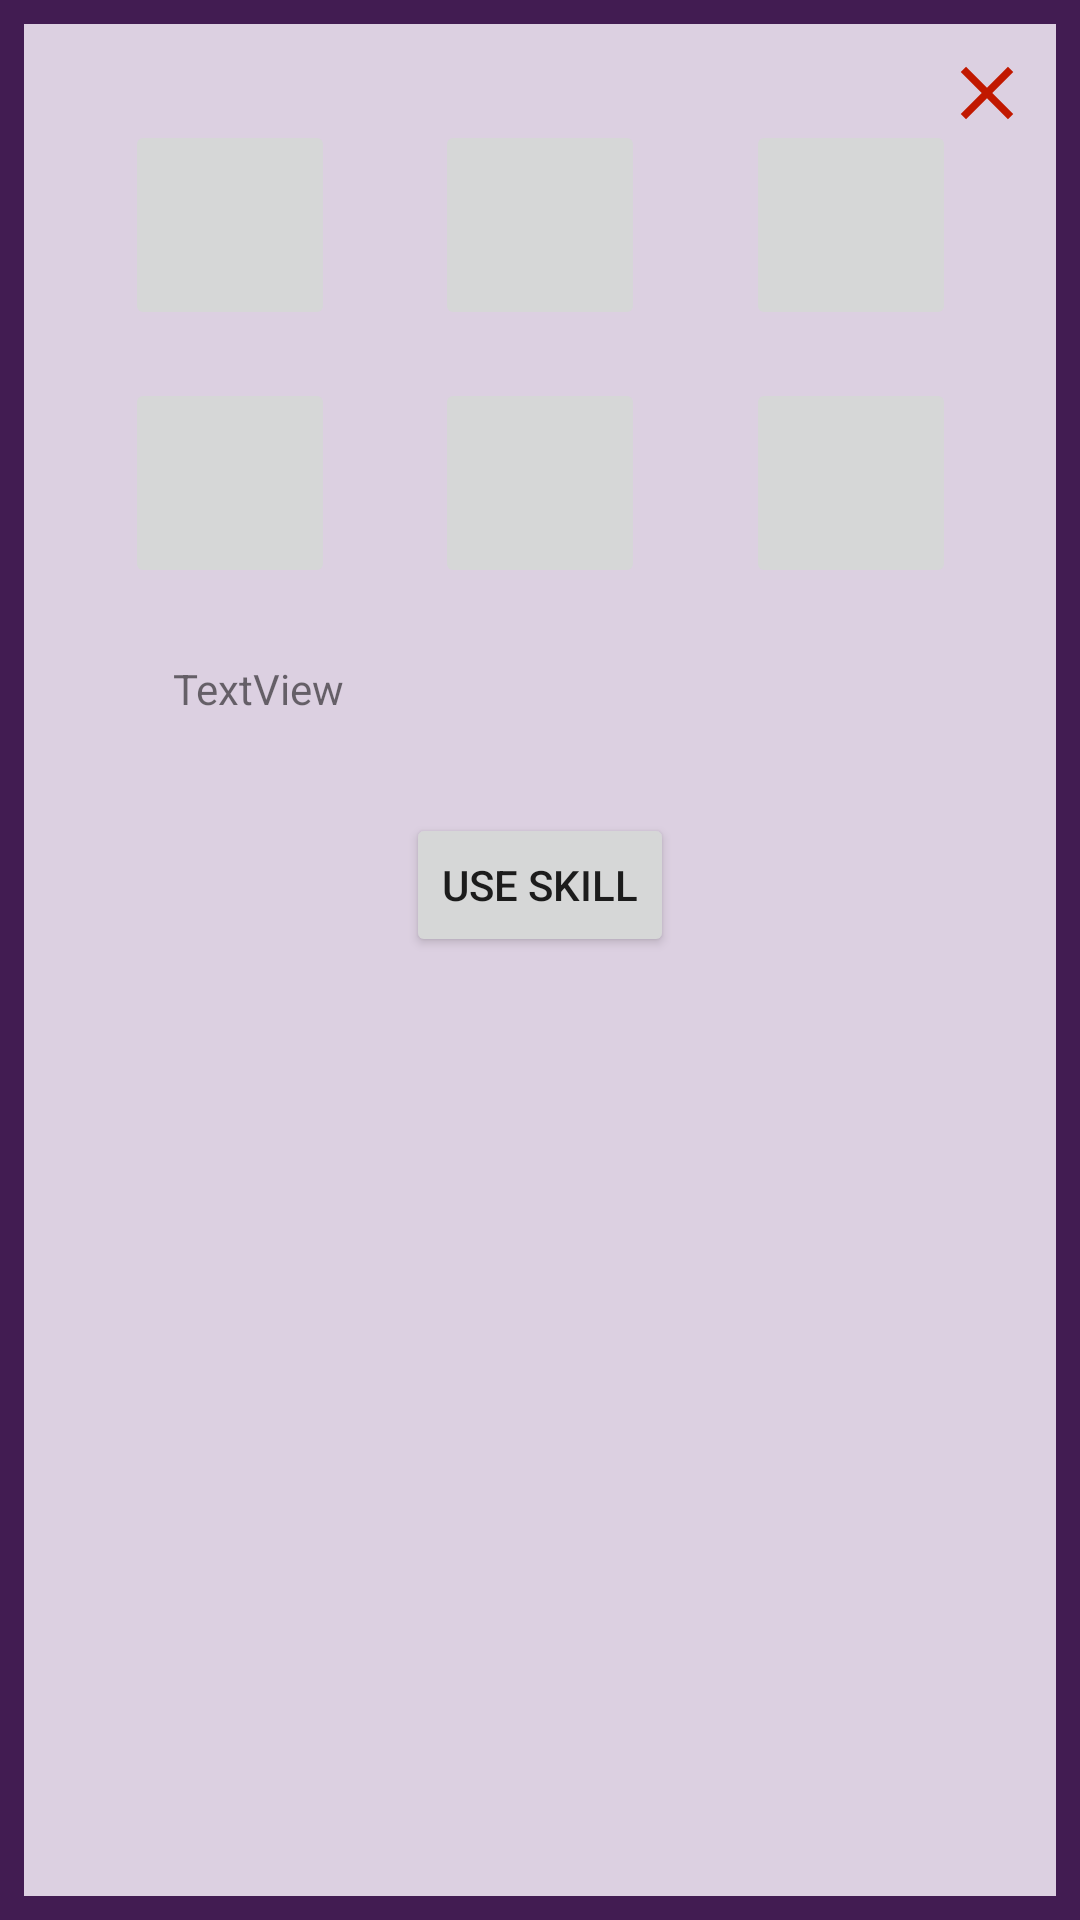

Screen size 1080w x 1920h. Icon name, then its box in pixels as [x1, y1, x2, y2]:
close: [961, 67, 1013, 119]
